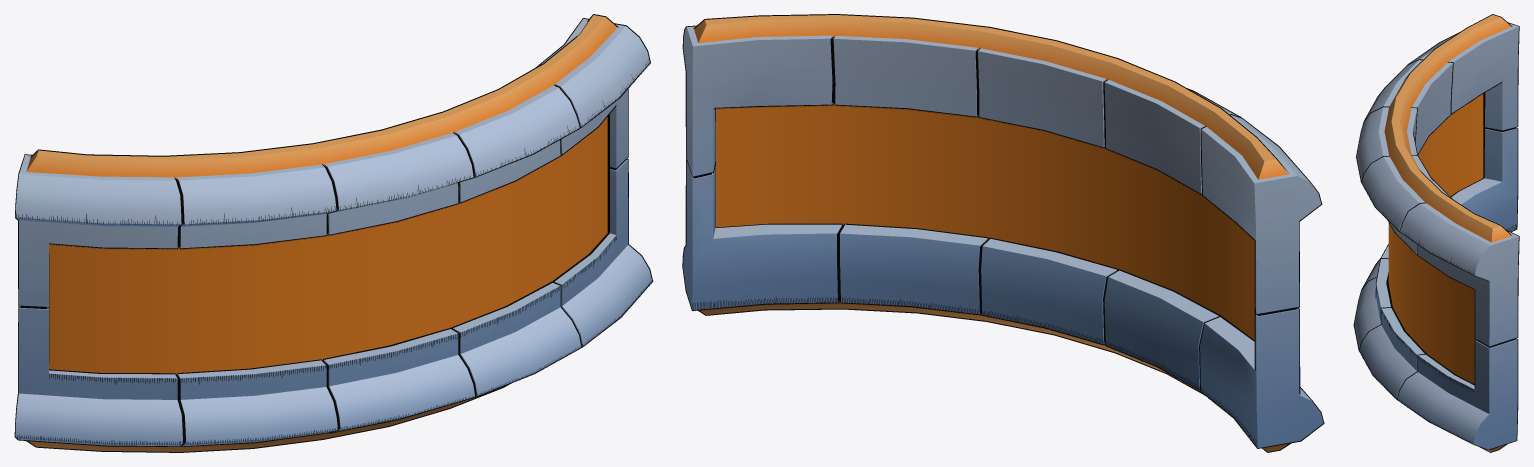
Rendered from sci-fi-glass-screen.glb.
3 views of the same model, side by side, from view 1: azimuth 30°, elevation 25°; view 2: azimuth 150°, elevation 25°; view 3: azimuth 270°, elevation 25° (orthographic). The views are drawn at different scales.
Parts seen in each view (by area): view 1: SciFi_GlassScreen; view 2: SciFi_GlassScreen; view 3: SciFi_GlassScreen.
Boxes of the visible parts, left/top/right/bottom form: SciFi_GlassScreen: left=14, top=14, right=653, bottom=452; SciFi_GlassScreen: left=682, top=14, right=1324, bottom=452; SciFi_GlassScreen: left=1353, top=14, right=1519, bottom=452.
Size of the model in its own units: 9.32 by 4.05 by 2.72.
Materials: 3 (2 with a texture image).
